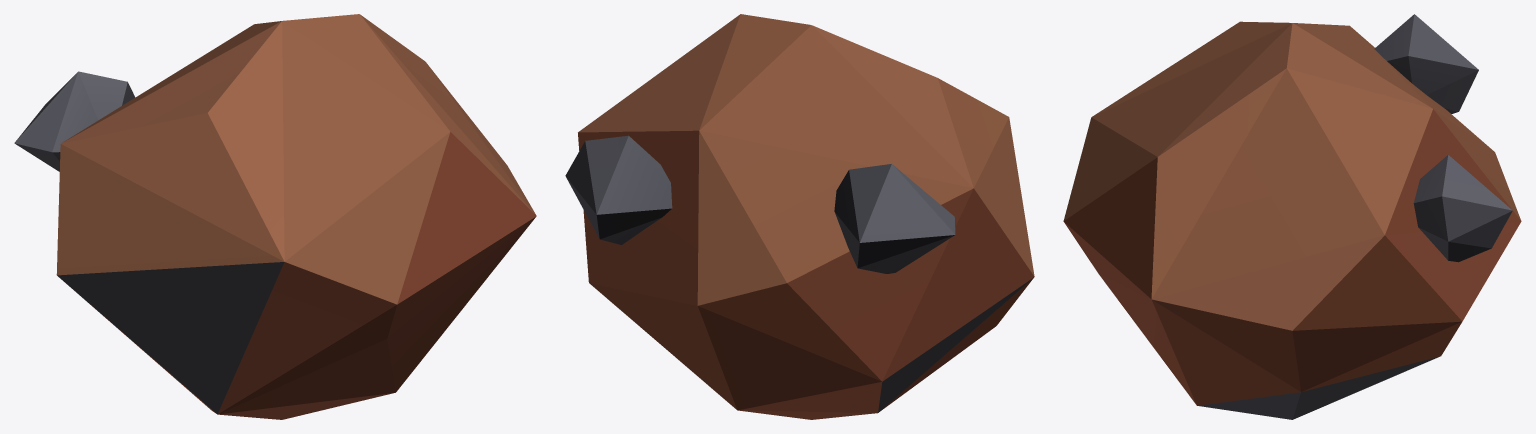
Rendered from ore_iron.glb.
3 views of the same model, side by side, from view 1: azimuth 30°, elevation 25°; view 2: azimuth 150°, elevation 25°; view 3: azimuth 270°, elevation 25° (orthographic).
Bounding box in the file's own units: 0.26 × 0.2199 × 0.23.
